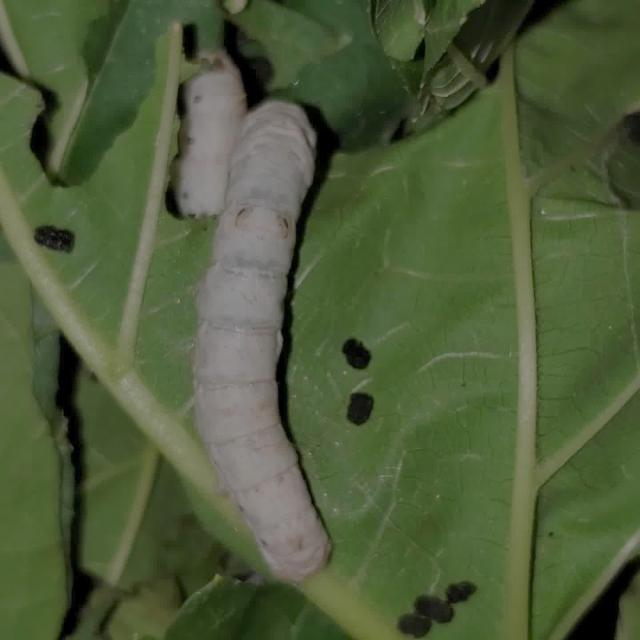Healthy: (181, 88, 368, 597)
